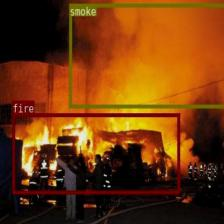fire: (12, 113, 180, 193)
smoke: (69, 3, 224, 107)
